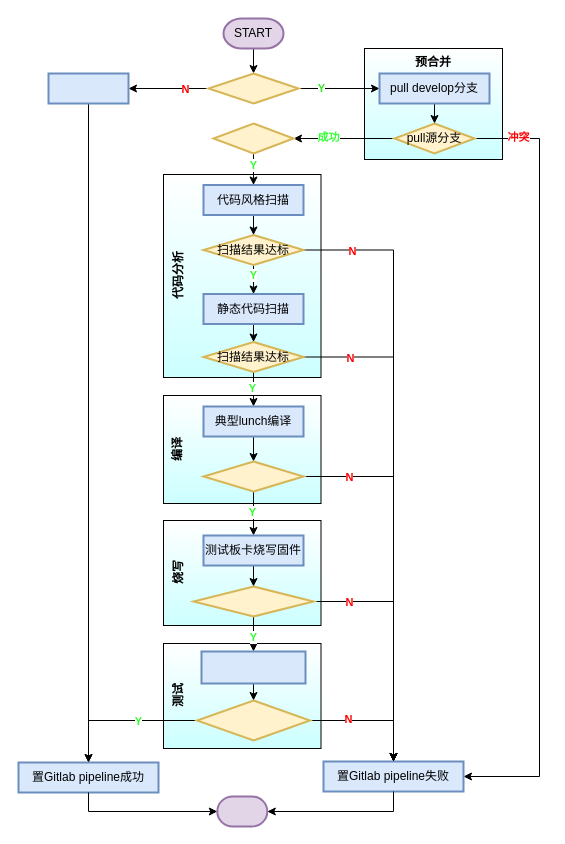
Some shapes in this 565 by 844 pixel diagram are drawn without their labels. Here are the shapes that lost their labels. From the top down, the centre of each, then its label:
the point at 88,88: 跳过CI流程
the point at 253,88: develop分支
the point at 253,138: 源代码改动
the point at 253,476: 所有编译通过
the point at 253,601: 所有板卡烧写成功
the point at 253,667: 板卡运行 测试程序
the point at 253,720: 所有板卡 测试通过
the point at 242,811: END
